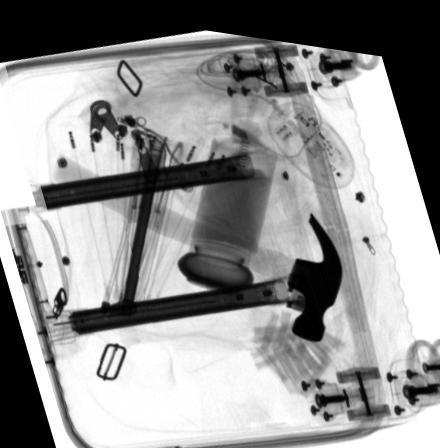Hammer: (51, 149, 343, 331)
